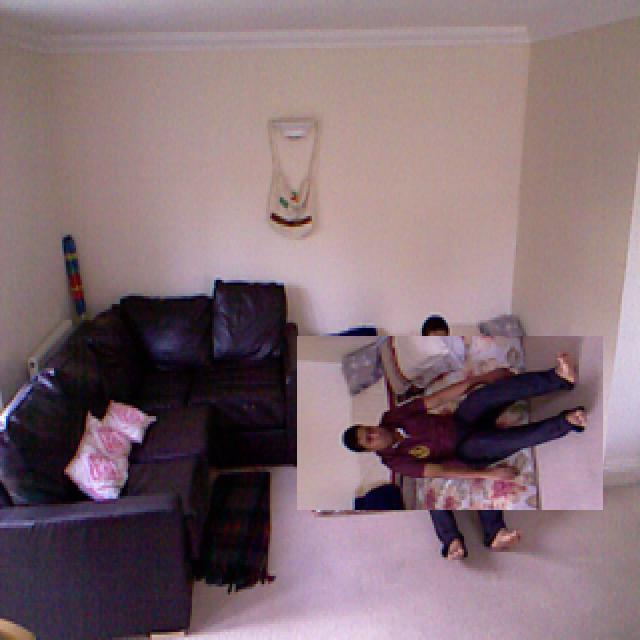NotFall: (307, 349, 595, 496)
